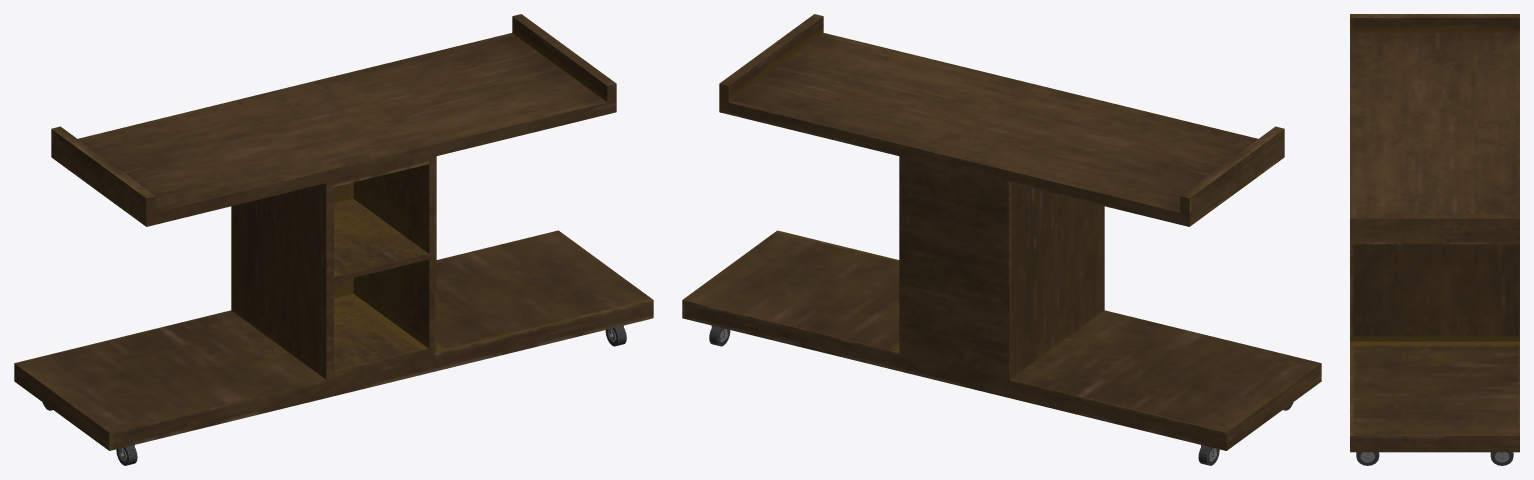
Rendered from Wooden sideboard.fbx.
3 renders of one model, left to right at view 1: azimuth 30°, elevation 25°; view 2: azimuth 150°, elevation 25°; view 3: azimuth 270°, elevation 25°, orthographic. The views are drawn at different scales.
Parts seen in each view (by area): view 1: Cube; view 2: Cube; view 3: Cube.
Part boxes in pixels (<box>): Cube: <box>14,14,653,465</box>; Cube: <box>682,14,1321,465</box>; Cube: <box>1350,14,1519,465</box>.
Size of the model in its own units: 198 by 94 by 60.
